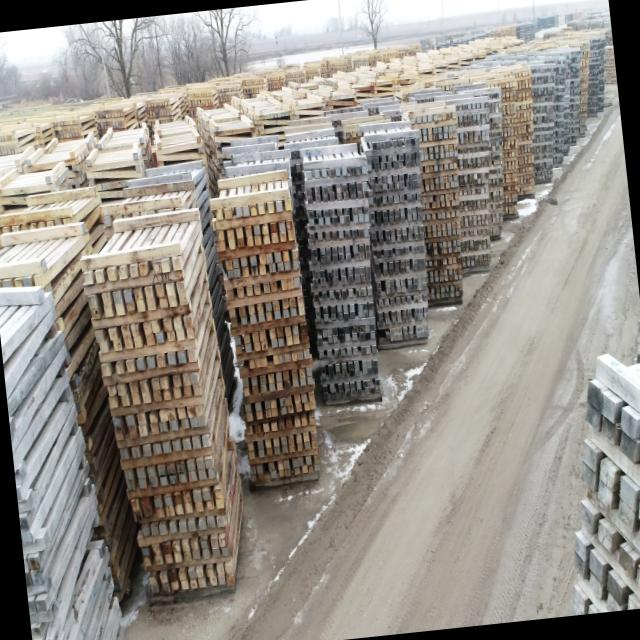stack: (73, 200, 257, 622), (206, 161, 327, 499), (293, 136, 394, 422), (220, 200, 222, 202)
